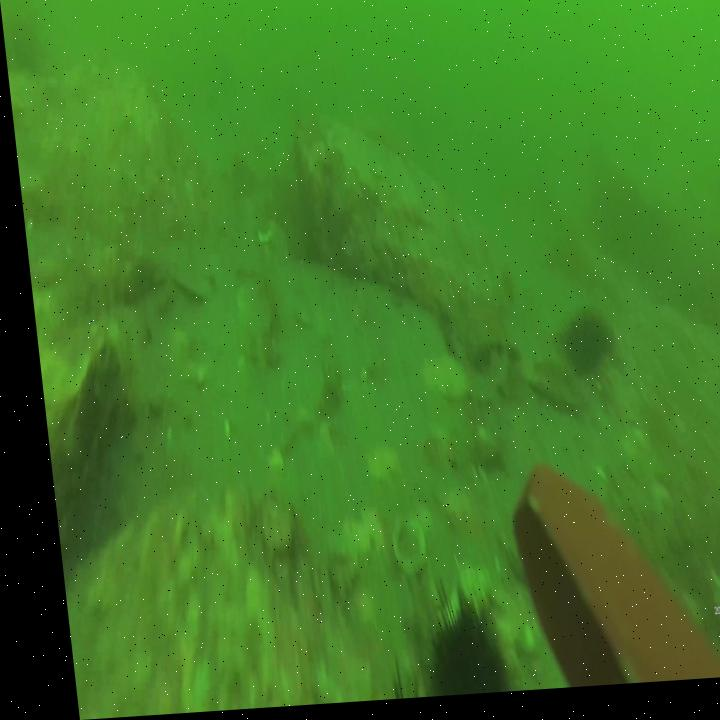echinus: (404, 592, 489, 702), (549, 315, 609, 389)
